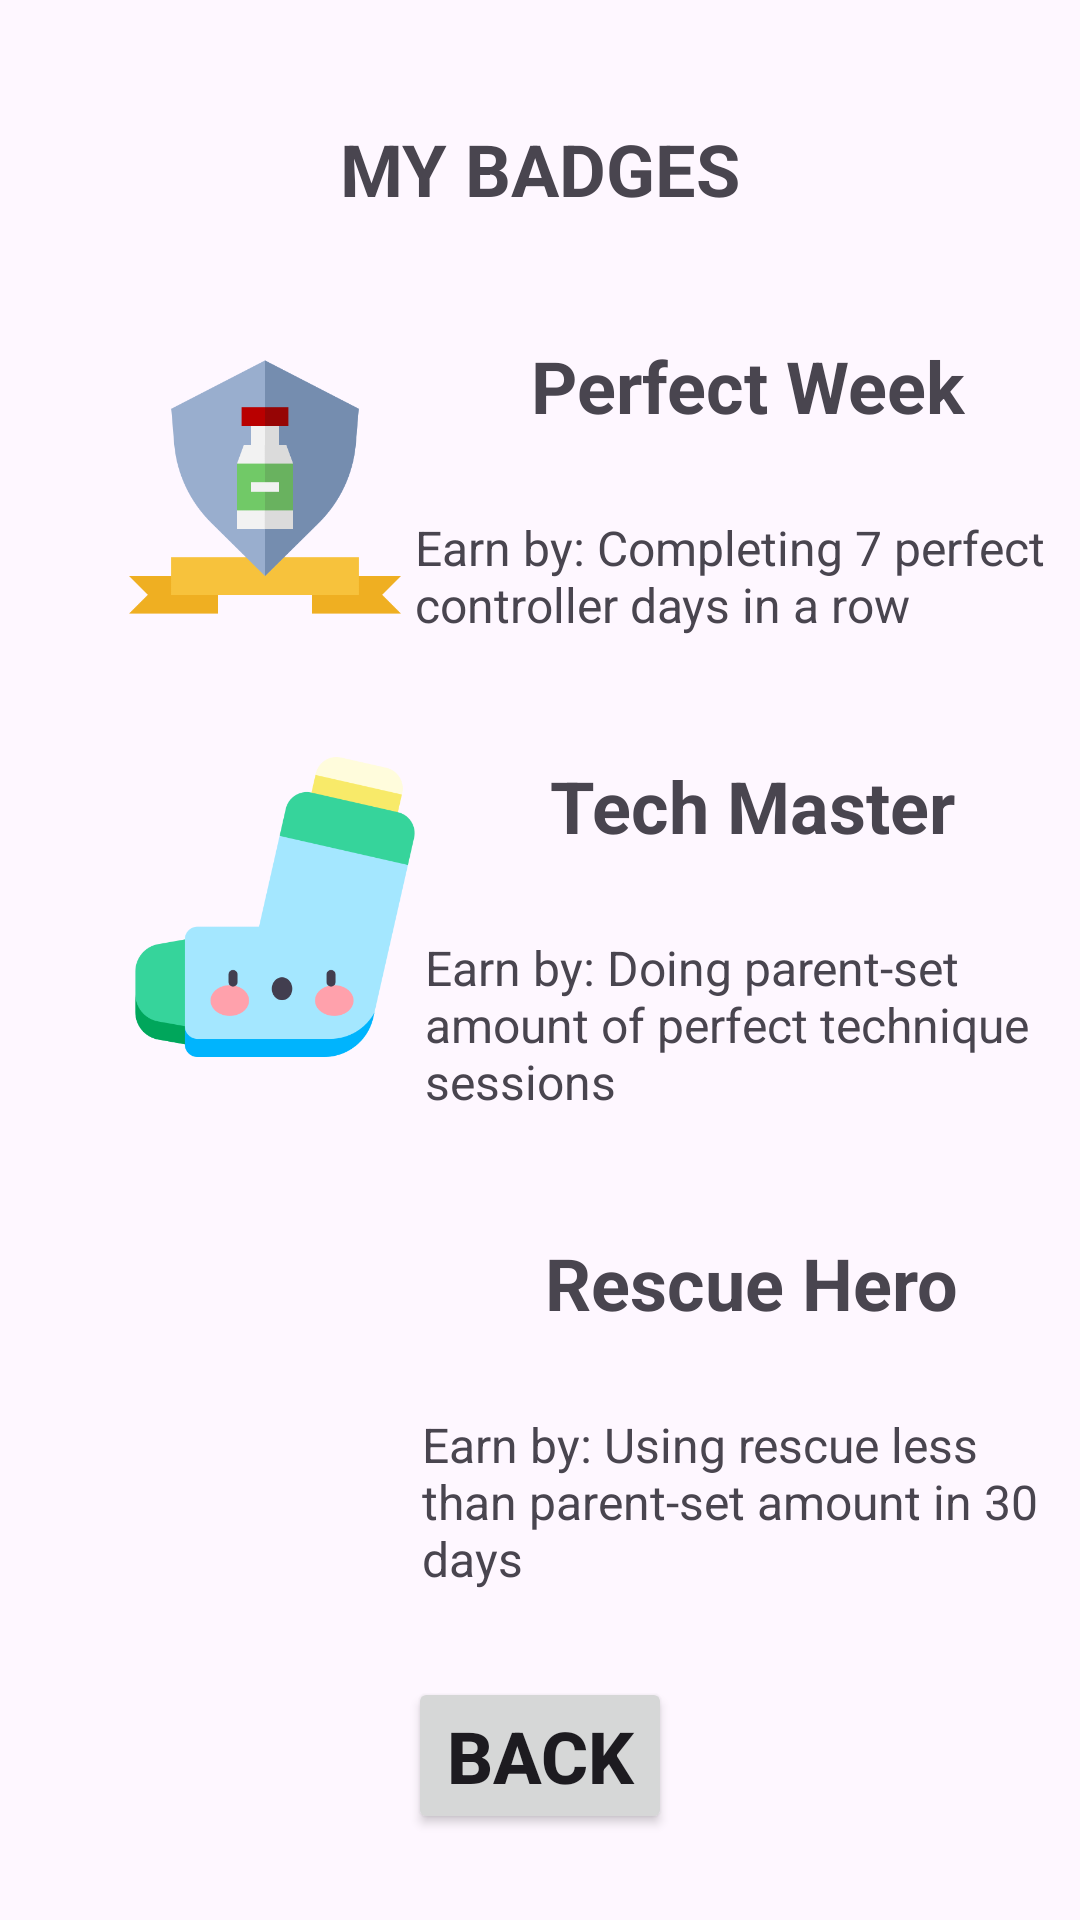

Where to tap for icons on this 1080 x 1920 app screen, as point (x, y):
asthma: point (275, 907)
vaccine: point (265, 487)
